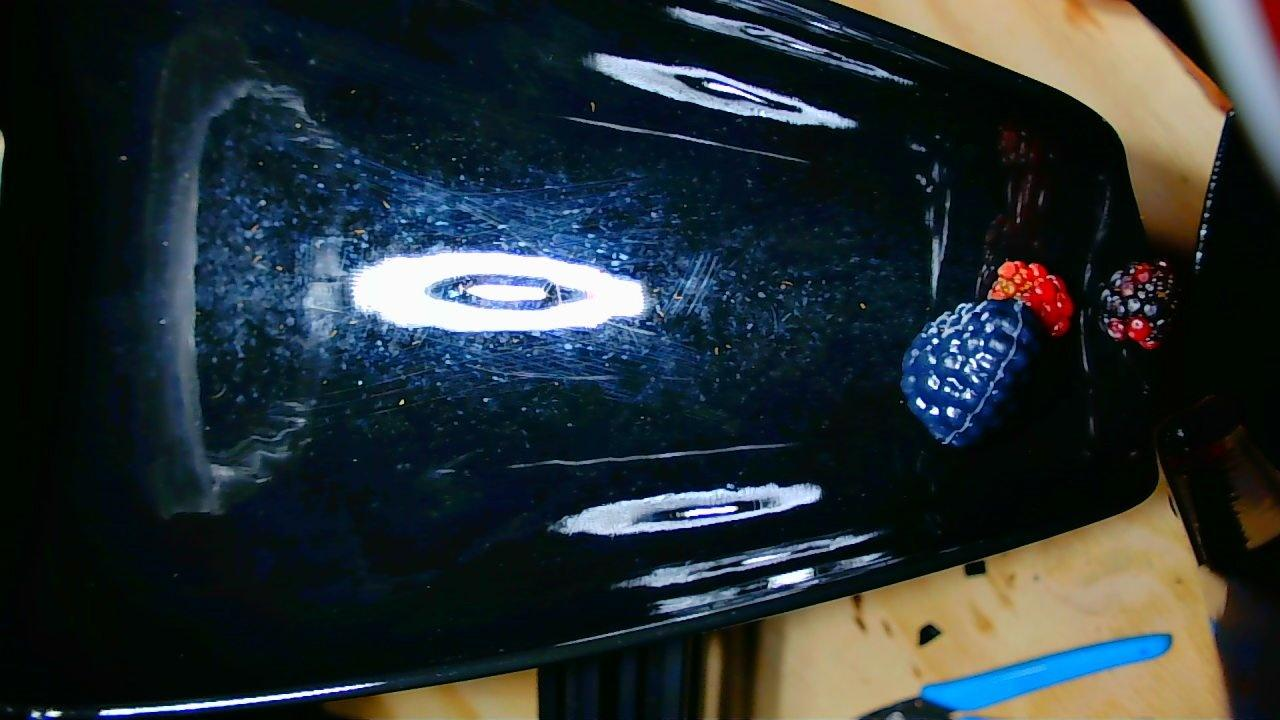berry: (900, 299, 1043, 446), (1098, 262, 1178, 349), (987, 260, 1075, 336)
